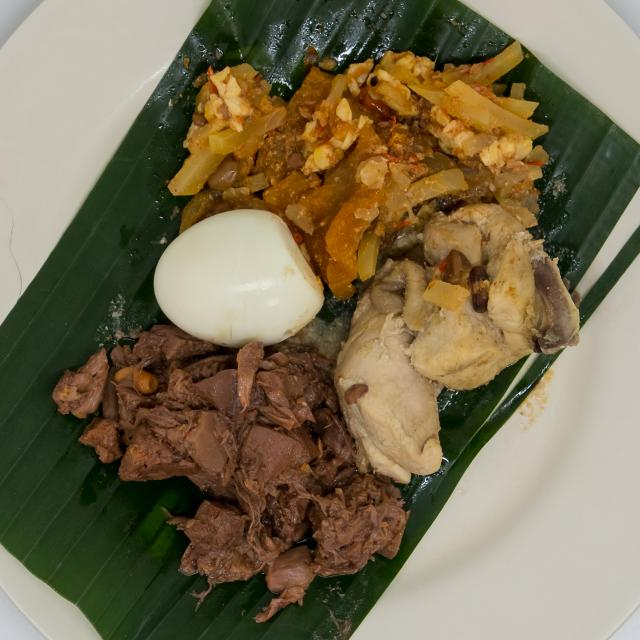Gudeg-Jogja: (50, 24, 591, 626)
